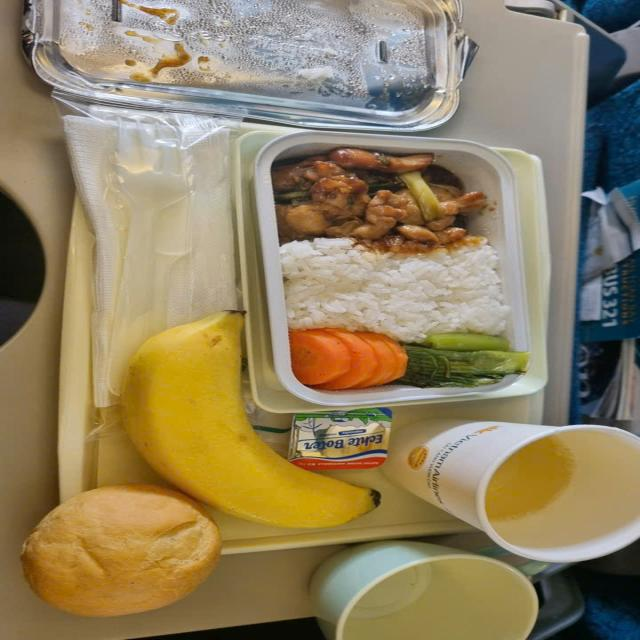banh mi: (20, 485, 220, 616)
ca rot: (289, 328, 405, 390)
chuoi: (120, 313, 379, 528)
com: (281, 238, 510, 343)
rau: (390, 334, 527, 388)
suon xao: (272, 148, 485, 254)
